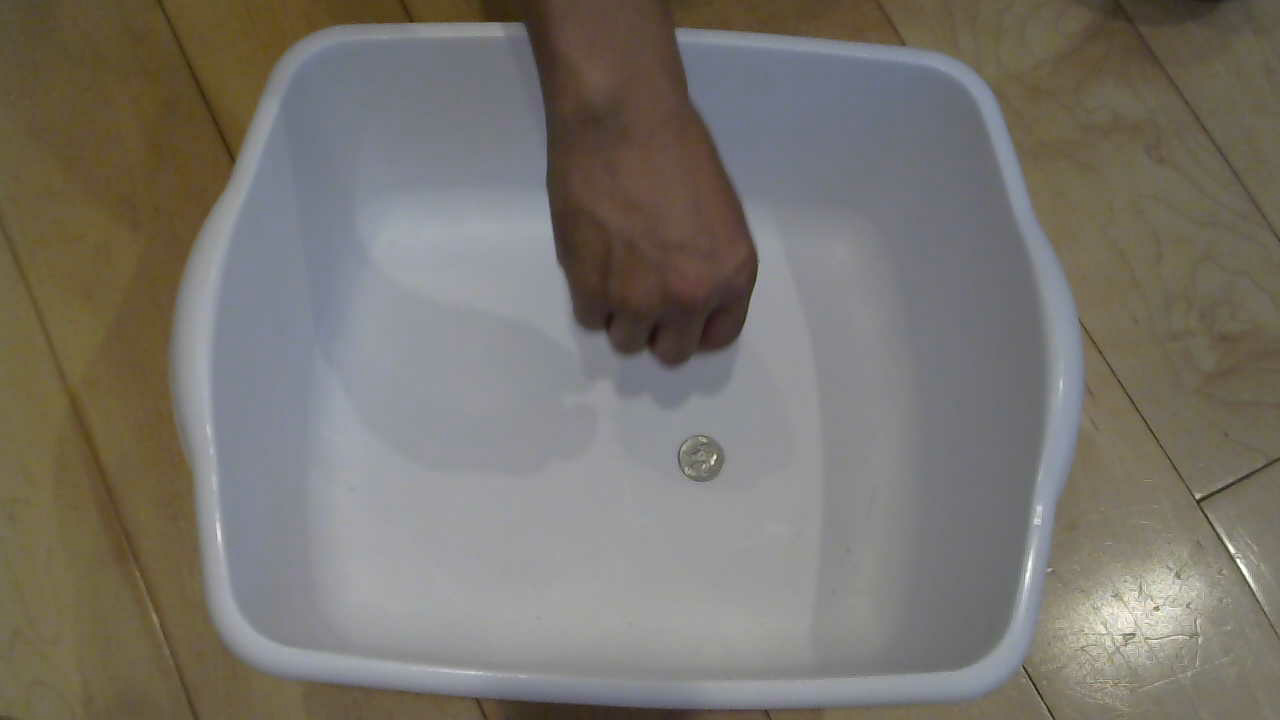coin: (677, 440, 741, 499)
